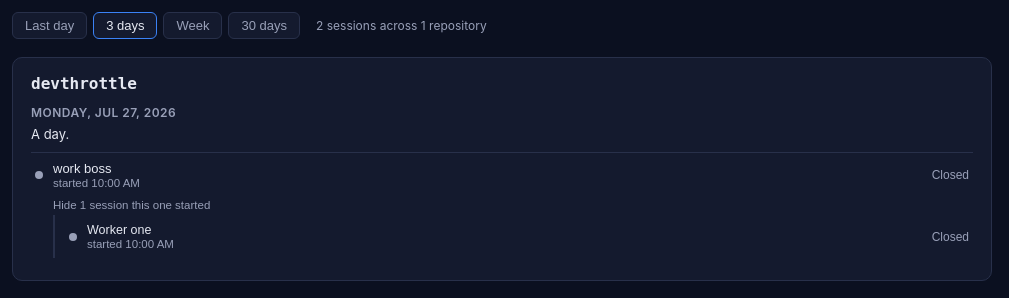
Test: History shows the shape of the work › shows the children expanded, and lets them be hidden
Expected: the text "Worker one" is shown, [87,223,151,237]
Click the button "Hide 1 session this one started": point(132, 205) [53,197,210,213]
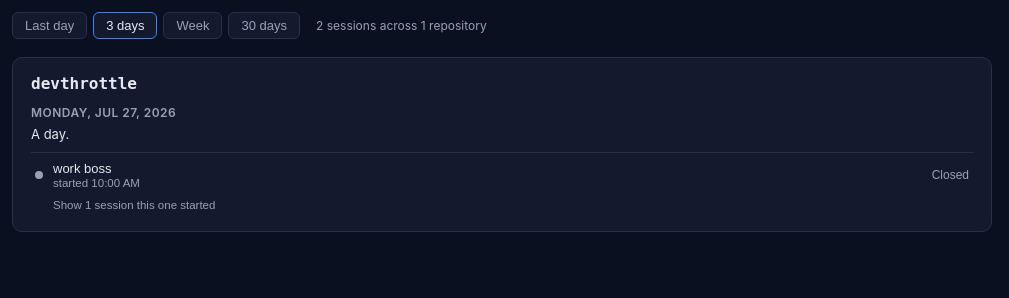
Expected: the button "Worker one" is gone
